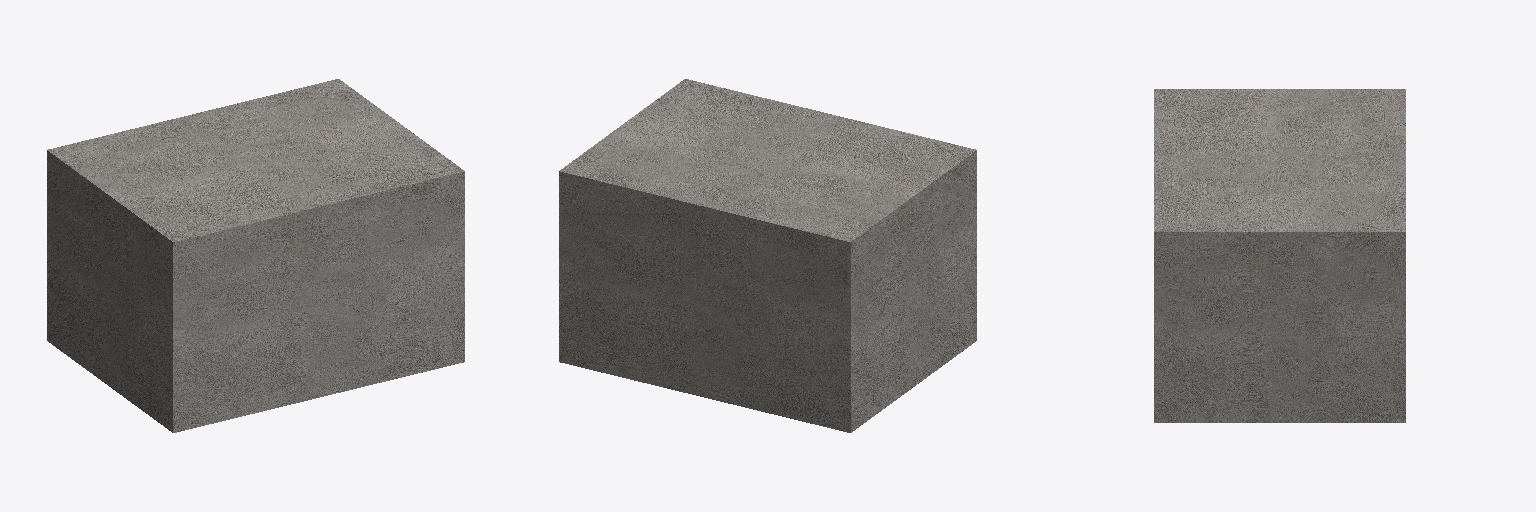
The picture shows the model from 3 angles: view 1: azimuth 30°, elevation 25°; view 2: azimuth 150°, elevation 25°; view 3: azimuth 270°, elevation 25°; orthographic projection.
Parts seen in each view (by area): view 1: 4x3x2,5; view 2: 4x3x2,5; view 3: 4x3x2,5.
Part boxes in pixels (left/top/right/bottom): 4x3x2,5: left=47, top=79, right=464, bottom=432; 4x3x2,5: left=559, top=79, right=976, bottom=432; 4x3x2,5: left=1154, top=89, right=1405, bottom=422.
Bounding box in the file's own units: 4 × 2.5 × 3.
1 materials, 1 textured.